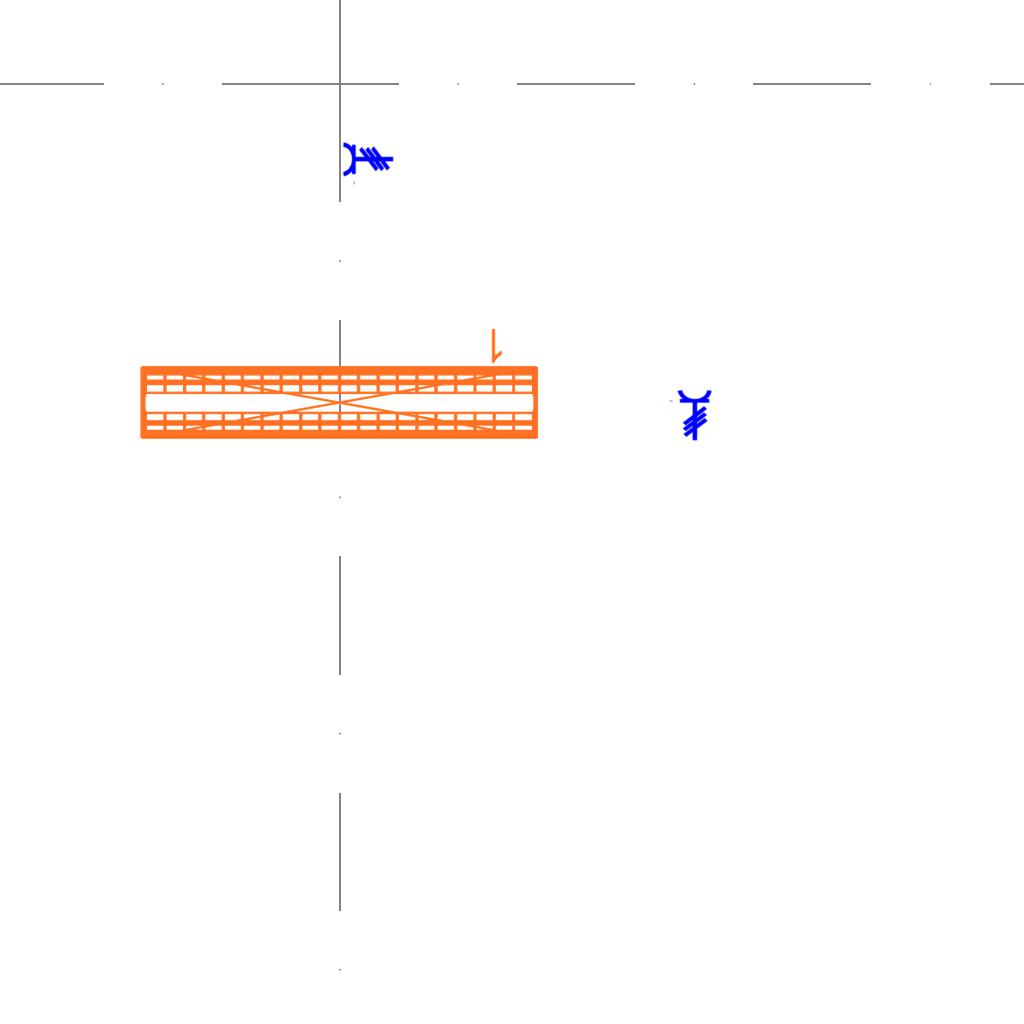Buero_Pendelleuchten_LED: (132, 319, 545, 449)
CEE_Drehstrom_Steckdose_16_32_A: (668, 389, 713, 441), (342, 141, 394, 186)
